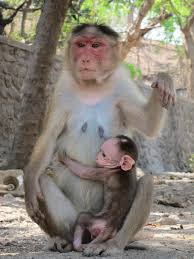monkey: (29, 15, 173, 247)
